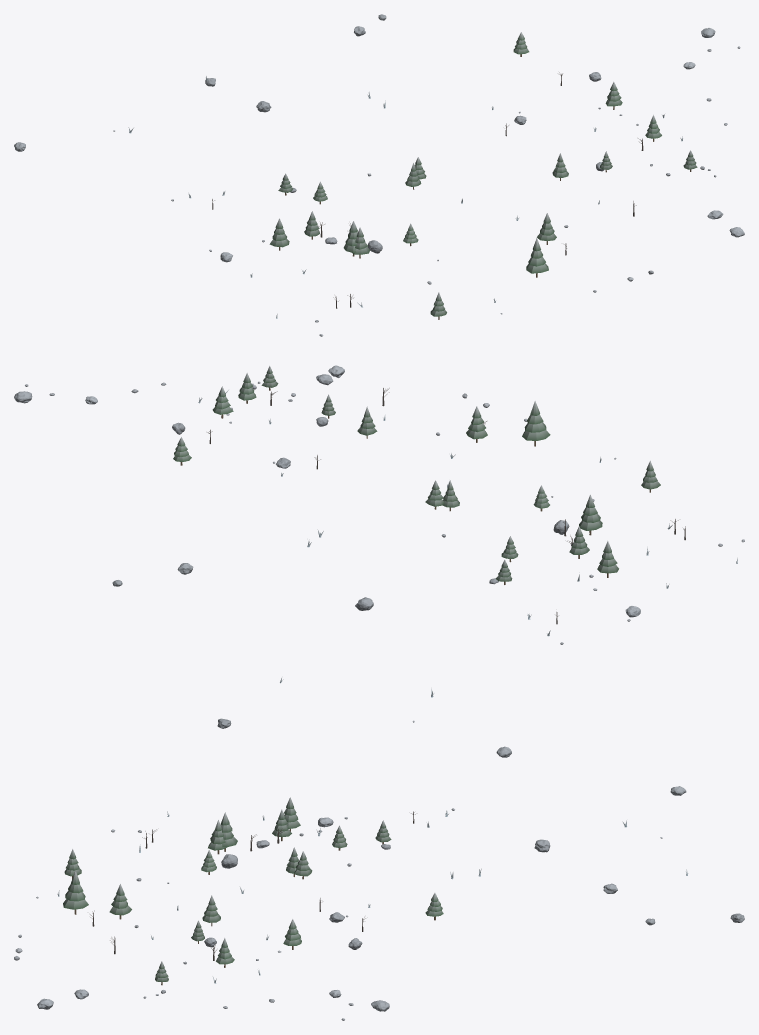
File: frost_land_scatter_c23_09.glb
3 renders of one model, top to bottom at view 1: azimuth 30°, elevation 25°; view 2: azimuth 150°, elevation 25°; view 3: azimuth 270°, elevation 25°, orthographic. The views are drawn at different scales.
Visible parts, largest first — view 1: frost_land_scatter_c23_09; view 2: frost_land_scatter_c23_09; view 3: frost_land_scatter_c23_09.
Part boxes in pixels (x1,y1,x2,y2): frost_land_scatter_c23_09: (14, 14, 744, 336); frost_land_scatter_c23_09: (14, 365, 744, 757); frost_land_scatter_c23_09: (14, 786, 744, 1020).
Bounding box in the file's own units: 250 × 47.39 × 248.
